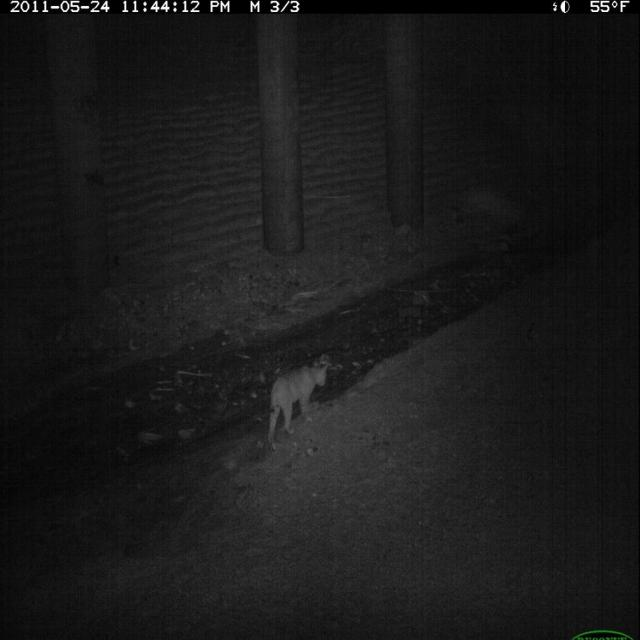bobcat: (265, 356, 333, 457)
